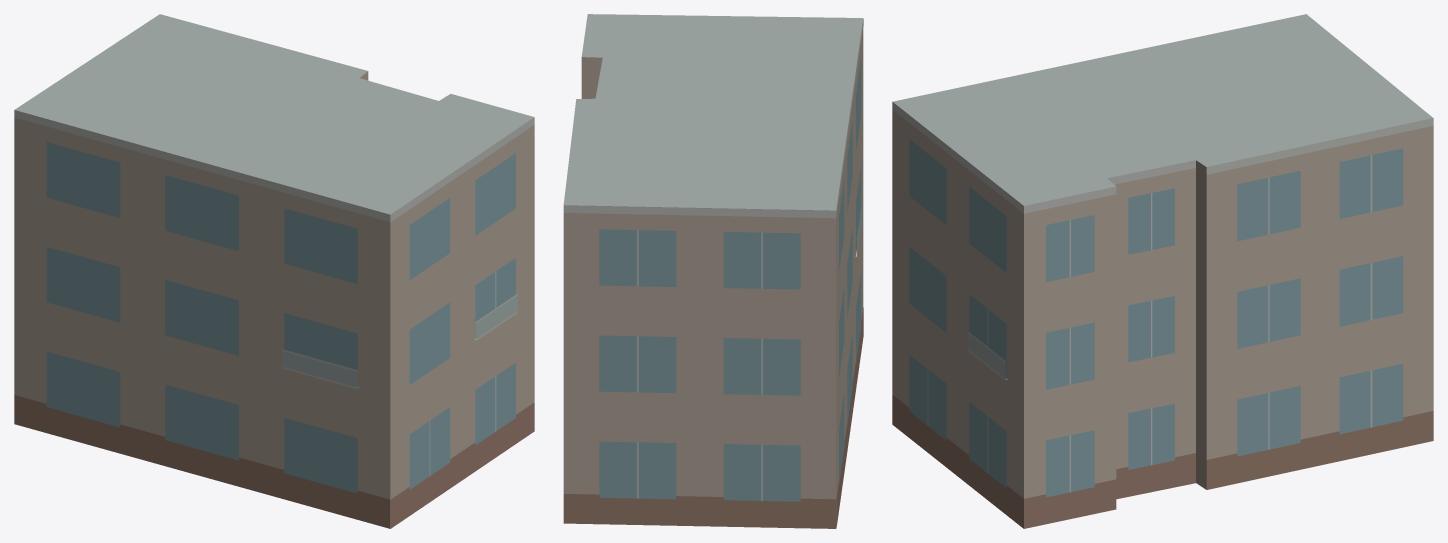
Rendered from survey-upis-32711845.glb.
3 views of the same model, side by side, from view 1: azimuth 30°, elevation 25°; view 2: azimuth 150°, elevation 25°; view 3: azimuth 270°, elevation 25° (orthographic). The views are drawn at different scales.
Visible parts, largest first — view 1: survey-upis-32711845.tmp; view 2: survey-upis-32711845.tmp; view 3: survey-upis-32711845.tmp.
Part boxes in pixels (box(x1,y1,x2,y2)): survey-upis-32711845.tmp: box(14, 14, 534, 528); survey-upis-32711845.tmp: box(563, 14, 863, 528); survey-upis-32711845.tmp: box(892, 14, 1433, 528).
Bounding box in the file's own units: 12.95 × 10.15 × 15.43.
